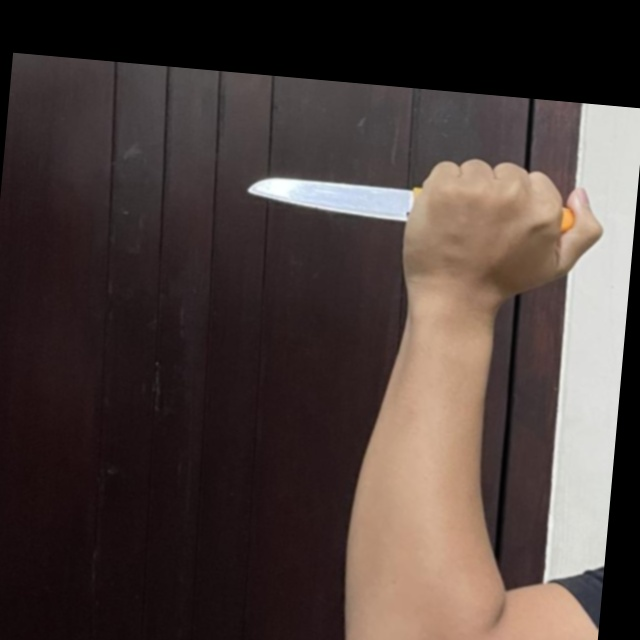Sharp-Object: (244, 172, 577, 238)
